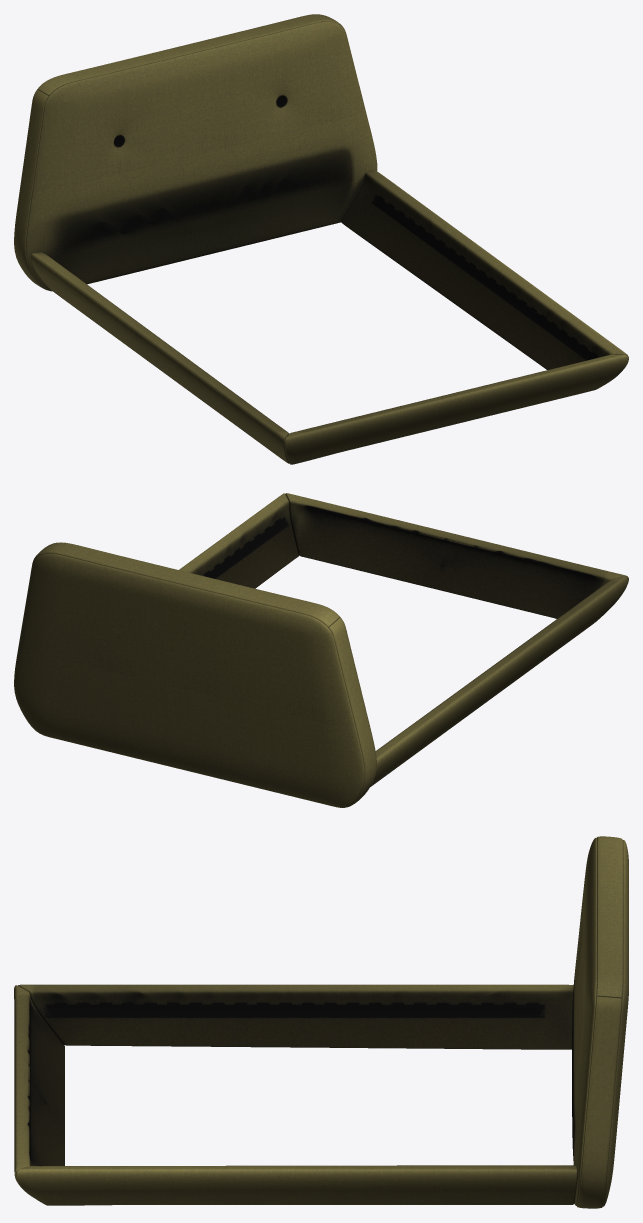
Rendered from edwin_king_size_bed_fabric_junipergreem_fabric_0_lev1.glb.
3 views of the same model, one above another, from view 1: azimuth 30°, elevation 25°; view 2: azimuth 150°, elevation 25°; view 3: azimuth 270°, elevation 25° (orthographic). The views are drawn at different scales.
Parts seen in each view (by area): view 1: edwin_king_size_bed_fabric_junipergreem_fabric_0_lev1; view 2: edwin_king_size_bed_fabric_junipergreem_fabric_0_lev1; view 3: edwin_king_size_bed_fabric_junipergreem_fabric_0_lev1.
Part boxes in pixels (bbox=[...]): edwin_king_size_bed_fabric_junipergreem_fabric_0_lev1: bbox=[14, 14, 628, 464]; edwin_king_size_bed_fabric_junipergreem_fabric_0_lev1: bbox=[14, 493, 628, 807]; edwin_king_size_bed_fabric_junipergreem_fabric_0_lev1: bbox=[14, 836, 628, 1208].
Bounding box in the file's own units: 9.86 × 5.27 × 13.38.
Materials: 1 (1 with a texture image).
